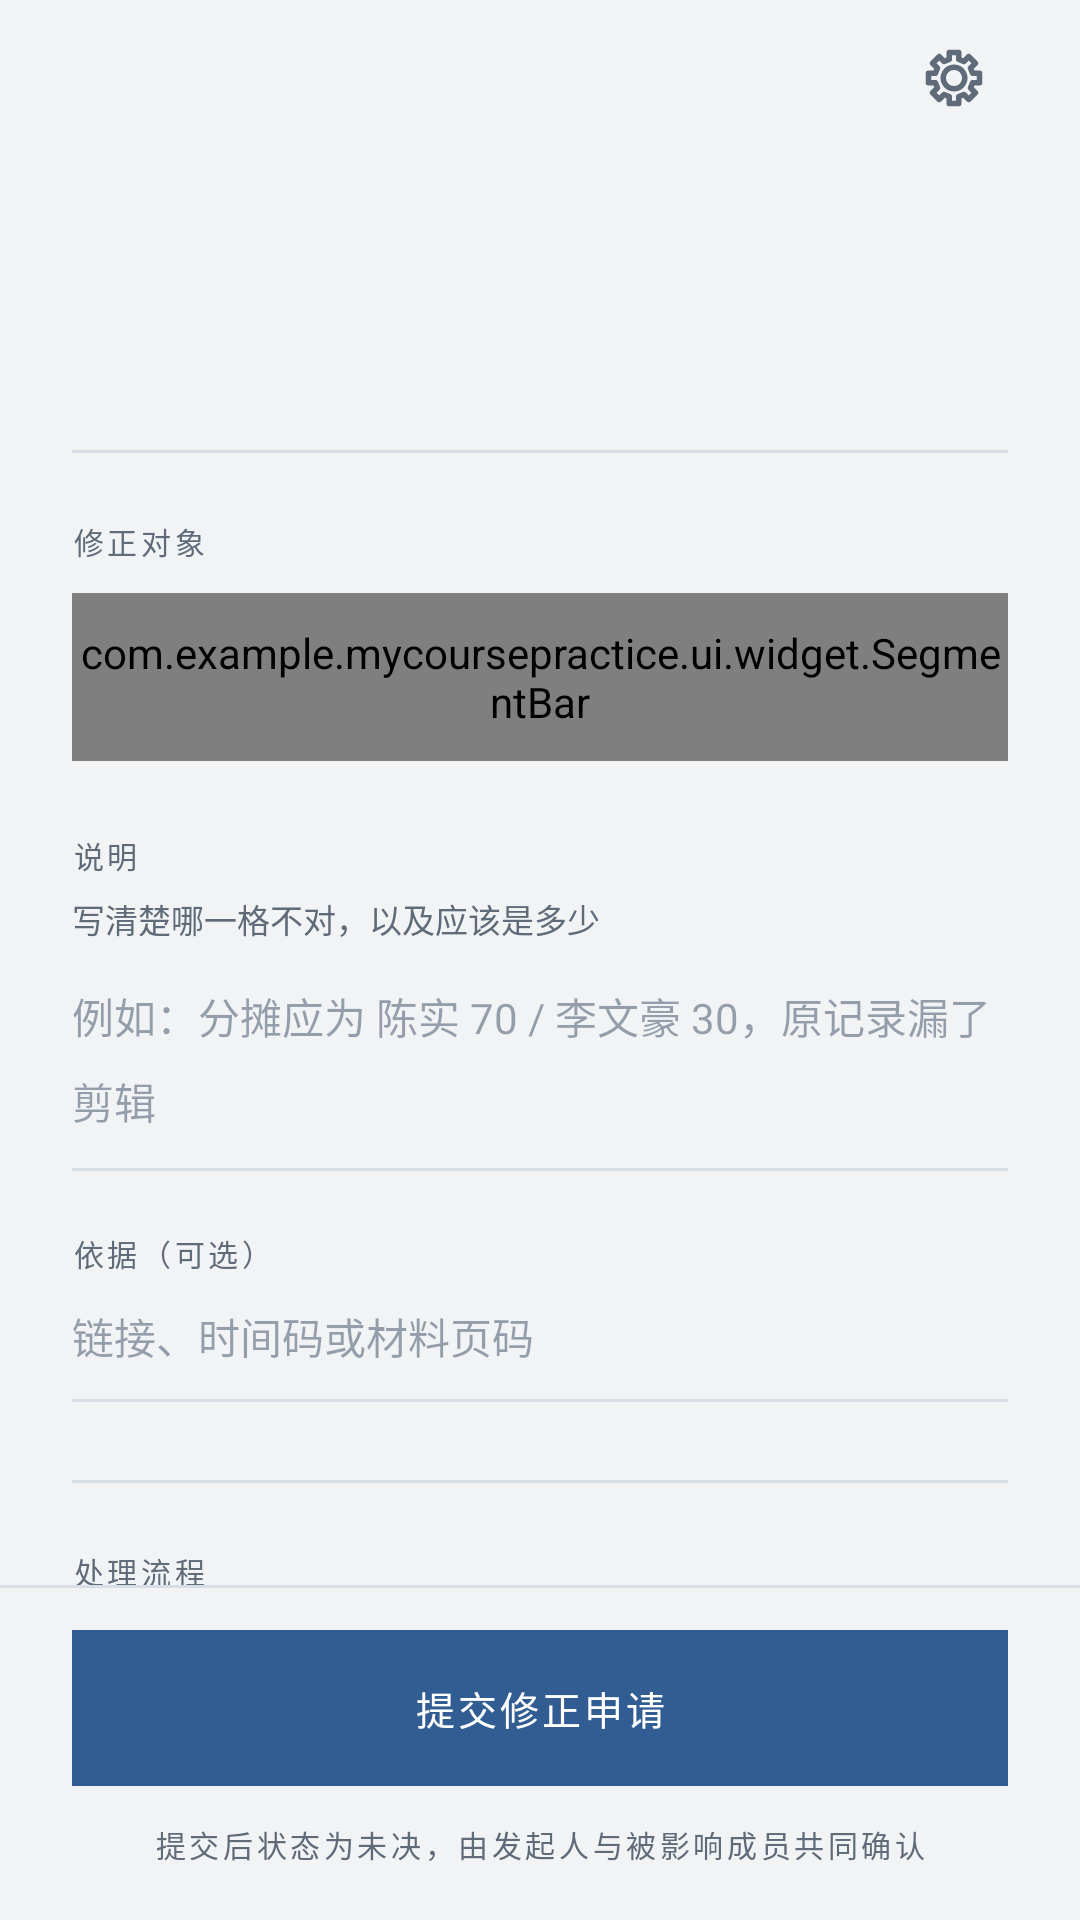

Icons on this 1080px x 1920px Android screen, each with its box as (x1, y1, x2, y2):
设置: (925, 49, 983, 107)
